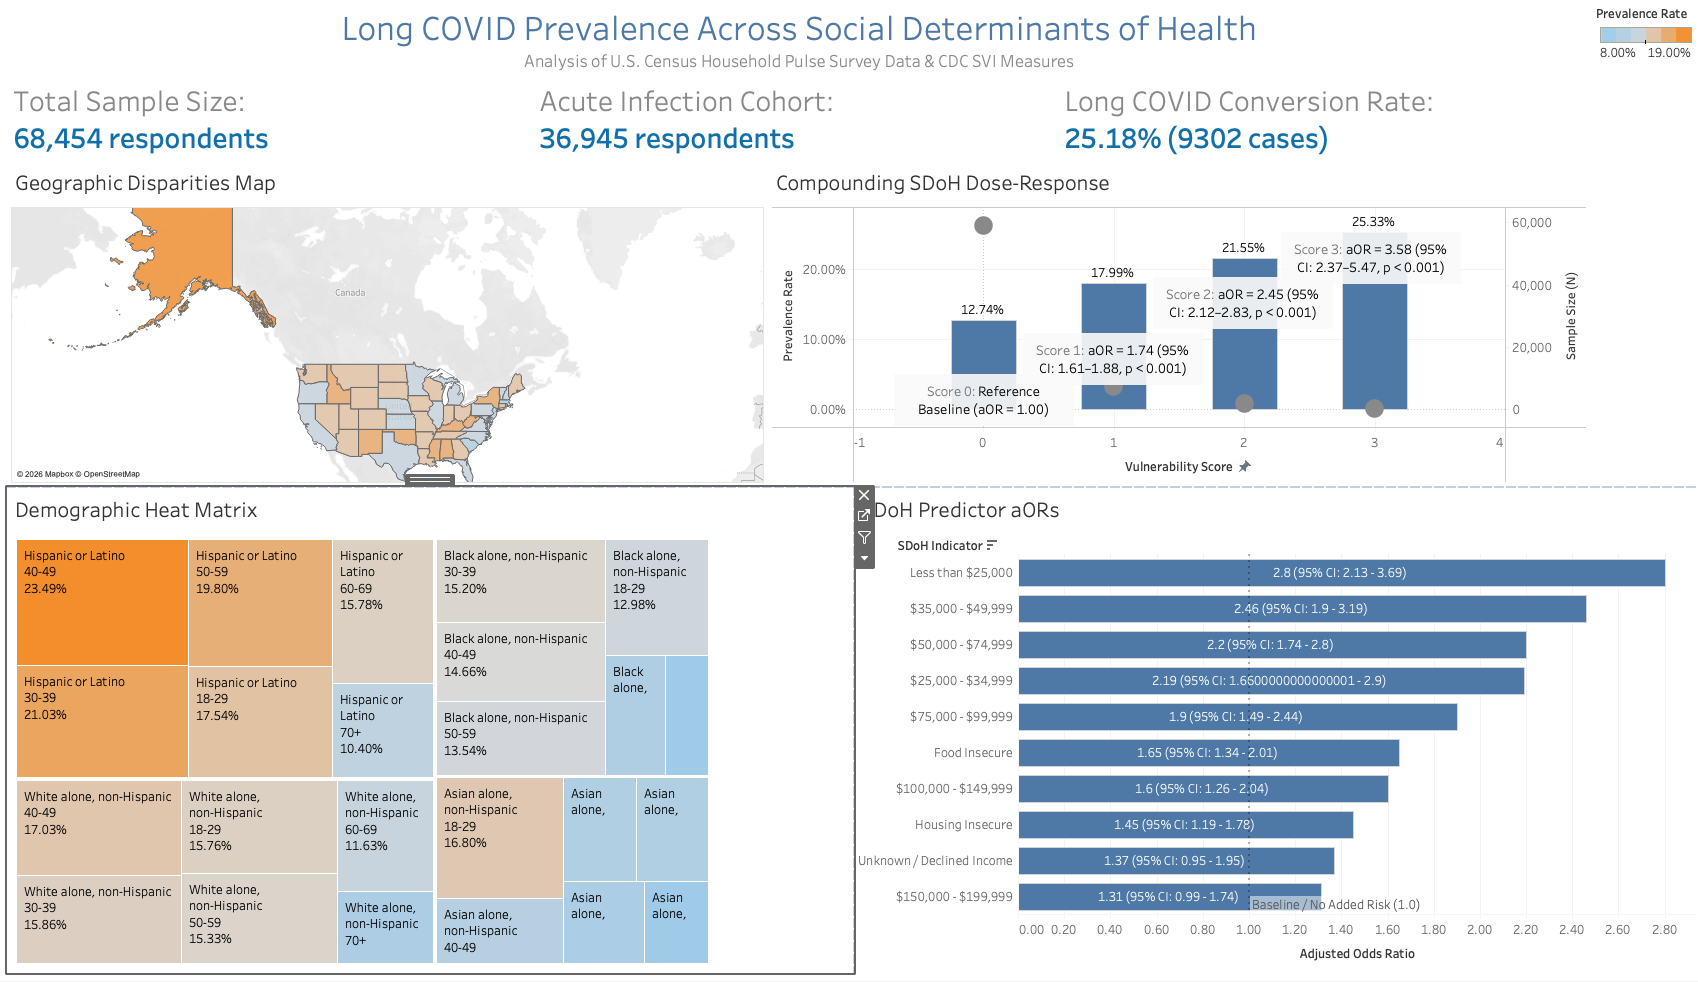

This screenshot's page, from the dashboard's own definition file:
{"tool":"tableau","page":{"name":"Long COVID Prevalence Across Social Determinants of Health","canvas":[1000,1000],"units":"permille","ordinal":0},"visuals":[{"type":"text","box":[4.7,8.6,927.5,81.3]},{"type":"legend","title":"Geographic Disparities Map","param":"[federated.0xunyin1rvg34p17cesvy1vn2yp7].[usr:Calculation_4434914773020673:qk]","box":[932.1,8.6,63.2,69.5]},{"type":"legend","title":"Compounding SDoH Dose-Response","param":"[federated.0xunyin1rvg34p17cesvy1vn2yp7].[sum:Calculation_4434914773401602:qk]","box":[932.1,78.1,63.2,23.5]},{"type":"text","box":[4.7,89.8,307.6,88.8]},{"type":"text","box":[312.3,89.8,307.6,88.8]},{"type":"text","box":[619.9,89.8,312.3,88.8]},{"type":"worksheet","title":"Geographic Disparities Map","mark":"Multipolygon","box":[4.7,178.6,445.6,321.4]},{"type":"worksheet","title":"Compounding SDoH Dose-Response","mark":"Bar","rows":["Calculation_4434914773020673","patient_id"],"cols":["Calculation_4434914773401602"],"box":[450.3,178.6,481.9,321.4]},{"type":"worksheet","title":"Demographic Heat Matrix","mark":"Automatic","box":[4.7,500,495.3,491.4]},{"type":"worksheet","title":"SDoH Predictor aORs","mark":"Automatic","rows":["term"],"cols":["aOR"],"box":[500,500,495.3,491.4]}]}

Visuals, with their boxes on the dashboard's canvas, which has no fixed pixel size, in thousandths of its width and height (x1, y1, x2, y2). These are canvas units, not pixel positions in the 1698x982 screenshot, which may show the page scaled, cropped or inside an application window:
text: x1=5, y1=9, x2=932, y2=90
"Geographic Disparities Map" legend: x1=932, y1=9, x2=995, y2=78
"Compounding SDoH Dose-Response" legend: x1=932, y1=78, x2=995, y2=102
text: x1=5, y1=90, x2=312, y2=179
text: x1=312, y1=90, x2=620, y2=179
text: x1=620, y1=90, x2=932, y2=179
"Geographic Disparities Map" worksheet (Multipolygon marks): x1=5, y1=179, x2=450, y2=500
"Compounding SDoH Dose-Response" worksheet (Bar marks): x1=450, y1=179, x2=932, y2=500
"Demographic Heat Matrix" worksheet: x1=5, y1=500, x2=500, y2=991
"SDoH Predictor aORs" worksheet: x1=500, y1=500, x2=995, y2=991
